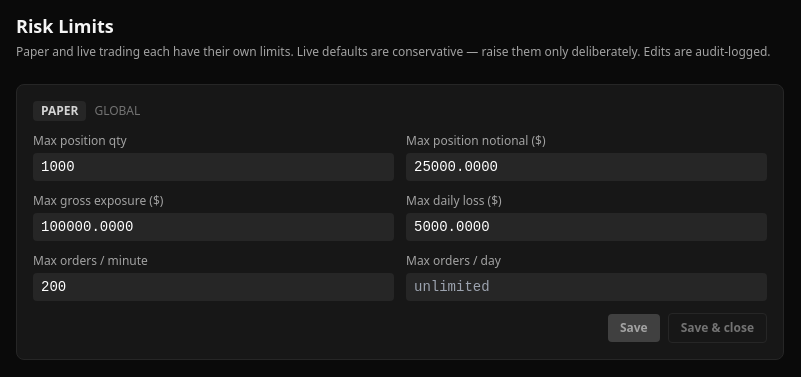
Test: Settings → Risk Limits save feedback › states what was saved instead of leaving the page silent
Replace the text in the field labelled "Max gross exposure ($)" with "110000": (214, 227) [33,213,394,241]
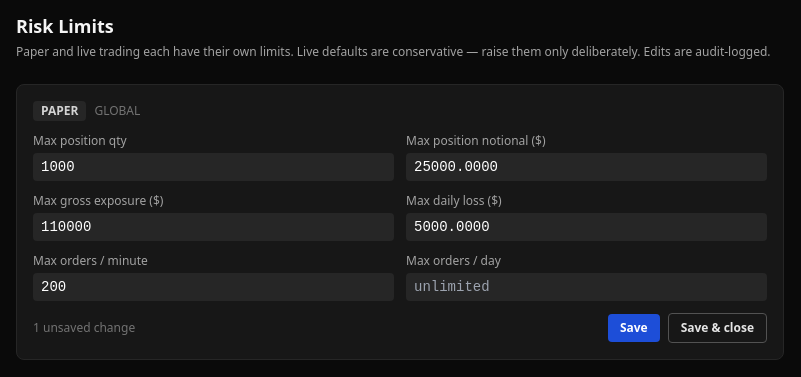
Click the button "Save": (634, 328) [608,314,660,342]
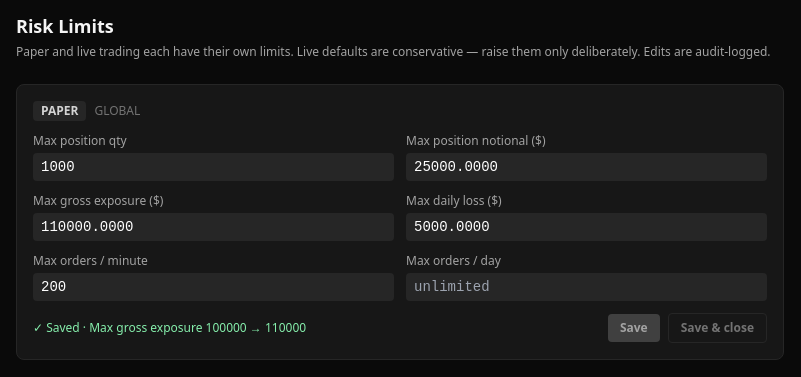
Check: the message shows "Saved", box [33,319,89,336]
Check: the message shows "Max gross exposure 100000 → 110000", box [89,319,306,336]
